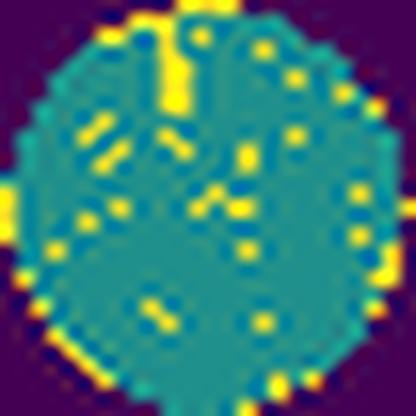Scratch: (94, 0, 197, 125)
